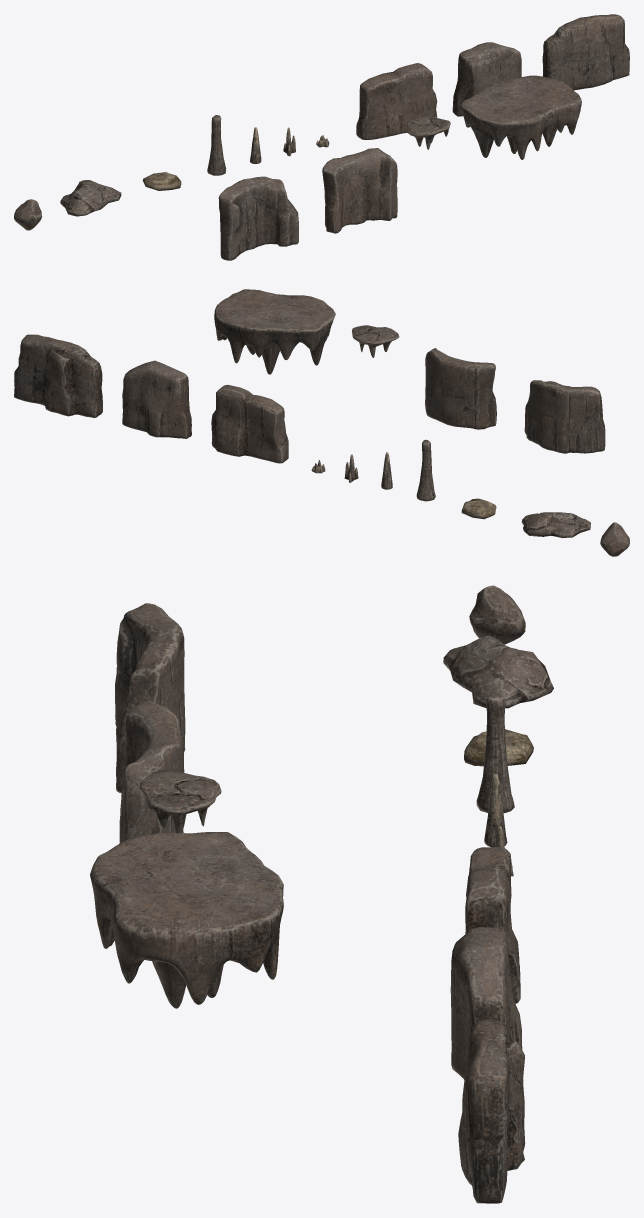
File: cave_rocks.glb
The picture shows the model from 3 angles, top to bottom: view 1: azimuth 30°, elevation 25°; view 2: azimuth 150°, elevation 25°; view 3: azimuth 270°, elevation 25°; orthographic projection. The views are drawn at different scales.
Parts seen in each view (by area): view 1: S_CaveTopSpears02_8, S_CaveWall03_13, S_CaveWallCorner01_9, S_CaveWallCorner02_10, S_CaveWall01_11, S_CaveWall02_12, S_CaveRock02_1, S_CaveTopSpears01_7, S_CaveRockColumn_3, S_CaveRock01_0, S_CaveRock03_2; view 2: S_CaveTopSpears02_8, S_CaveWall03_13, S_CaveWallCorner01_9, S_CaveWallCorner02_10, S_CaveWall01_11, S_CaveWall02_12, S_CaveRock02_1, S_CaveTopSpears01_7, S_CaveRockColumn_3, S_CaveRock01_0, S_CaveRock03_2; view 3: S_CaveTopSpears02_8, S_CaveWall03_13, S_CaveWallCorner01_9, S_CaveWall02_12, S_CaveWallCorner02_10, S_CaveRock02_1, S_CaveWall01_11, S_CaveTopSpears01_7, S_CaveRockColumn_3, S_CaveRock01_0, S_CaveRock03_2, S_CaveRockSpear01_4.
Part boxes in pixels (x1,y1,x2,y2): S_CaveTopSpears02_8: (461, 75, 581, 159); S_CaveWall03_13: (542, 14, 629, 90); S_CaveWallCorner01_9: (218, 176, 298, 260); S_CaveWallCorner02_10: (322, 148, 397, 233); S_CaveWall01_11: (356, 63, 437, 139); S_CaveWall02_12: (452, 42, 521, 116); S_CaveRock02_1: (60, 180, 121, 216); S_CaveTopSpears01_7: (406, 117, 450, 149); S_CaveRockColumn_3: (207, 115, 226, 175); S_CaveRock01_0: (14, 199, 42, 230); S_CaveRock03_2: (142, 172, 181, 190); S_CaveTopSpears02_8: (214, 289, 335, 374); S_CaveWall03_13: (14, 334, 102, 417); S_CaveWallCorner01_9: (524, 380, 605, 453); S_CaveWallCorner02_10: (425, 348, 496, 429); S_CaveWall01_11: (211, 385, 288, 463); S_CaveWall02_12: (122, 360, 191, 438); S_CaveRock02_1: (521, 512, 590, 537); S_CaveTopSpears01_7: (352, 325, 399, 357); S_CaveRockColumn_3: (416, 439, 435, 501); S_CaveRock01_0: (600, 522, 629, 556); S_CaveRock03_2: (461, 498, 496, 519); S_CaveTopSpears02_8: (90, 832, 283, 1008); S_CaveWall03_13: (458, 1019, 525, 1203); S_CaveWallCorner01_9: (115, 603, 185, 793); S_CaveWall02_12: (450, 927, 522, 1079); S_CaveWallCorner02_10: (119, 701, 184, 843); S_CaveRock02_1: (443, 635, 553, 708); S_CaveWall01_11: (465, 847, 520, 1003); S_CaveTopSpears01_7: (140, 770, 221, 832); S_CaveRockColumn_3: (476, 692, 514, 813); S_CaveRock01_0: (469, 585, 525, 644); S_CaveRock03_2: (464, 729, 533, 766); S_CaveRockSpear01_4: (484, 773, 507, 847).
Bounding box in the file's own units: 64.5 × 8.71 × 21.21.
4 materials, 4 textured.
